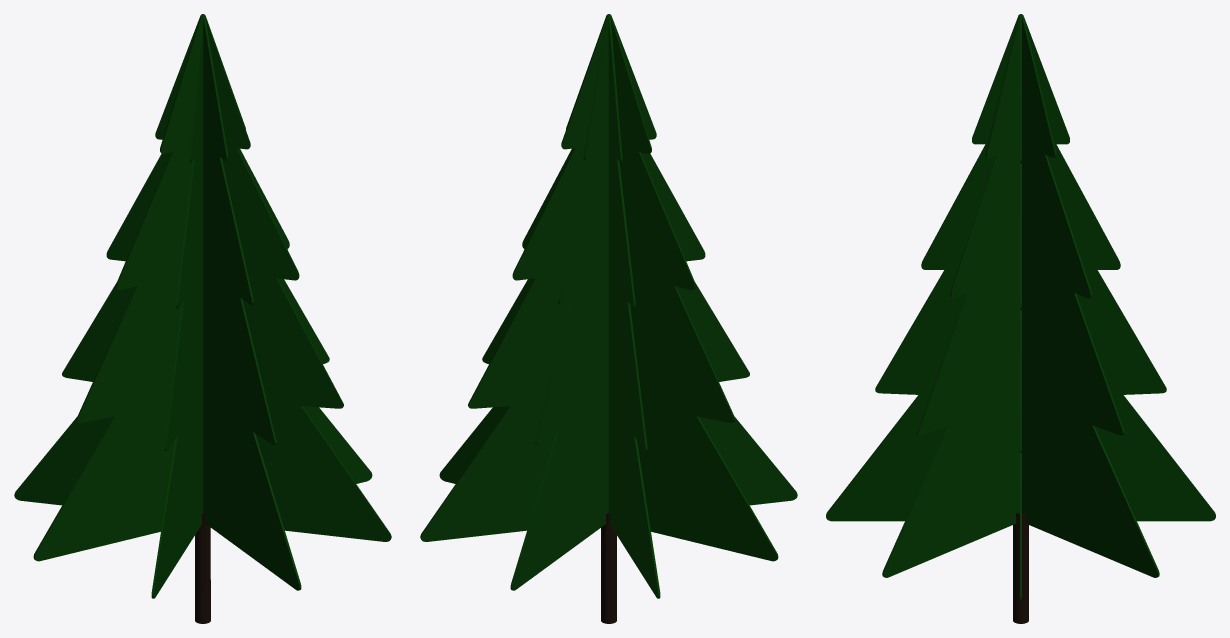
Rendered from PineTree.FBX.
3 views of the same model, side by side, from view 1: azimuth 30°, elevation 25°; view 2: azimuth 150°, elevation 25°; view 3: azimuth 270°, elevation 25° (orthographic).
Visible parts, largest first — view 1: Tree; view 2: Tree; view 3: Tree.
Part boxes in pixels (x1,y1,x2,y2): Tree: (14, 14, 391, 623); Tree: (420, 14, 797, 623); Tree: (826, 14, 1215, 623).
Size of the model in its own units: 4.59 by 7.88 by 4.59.
